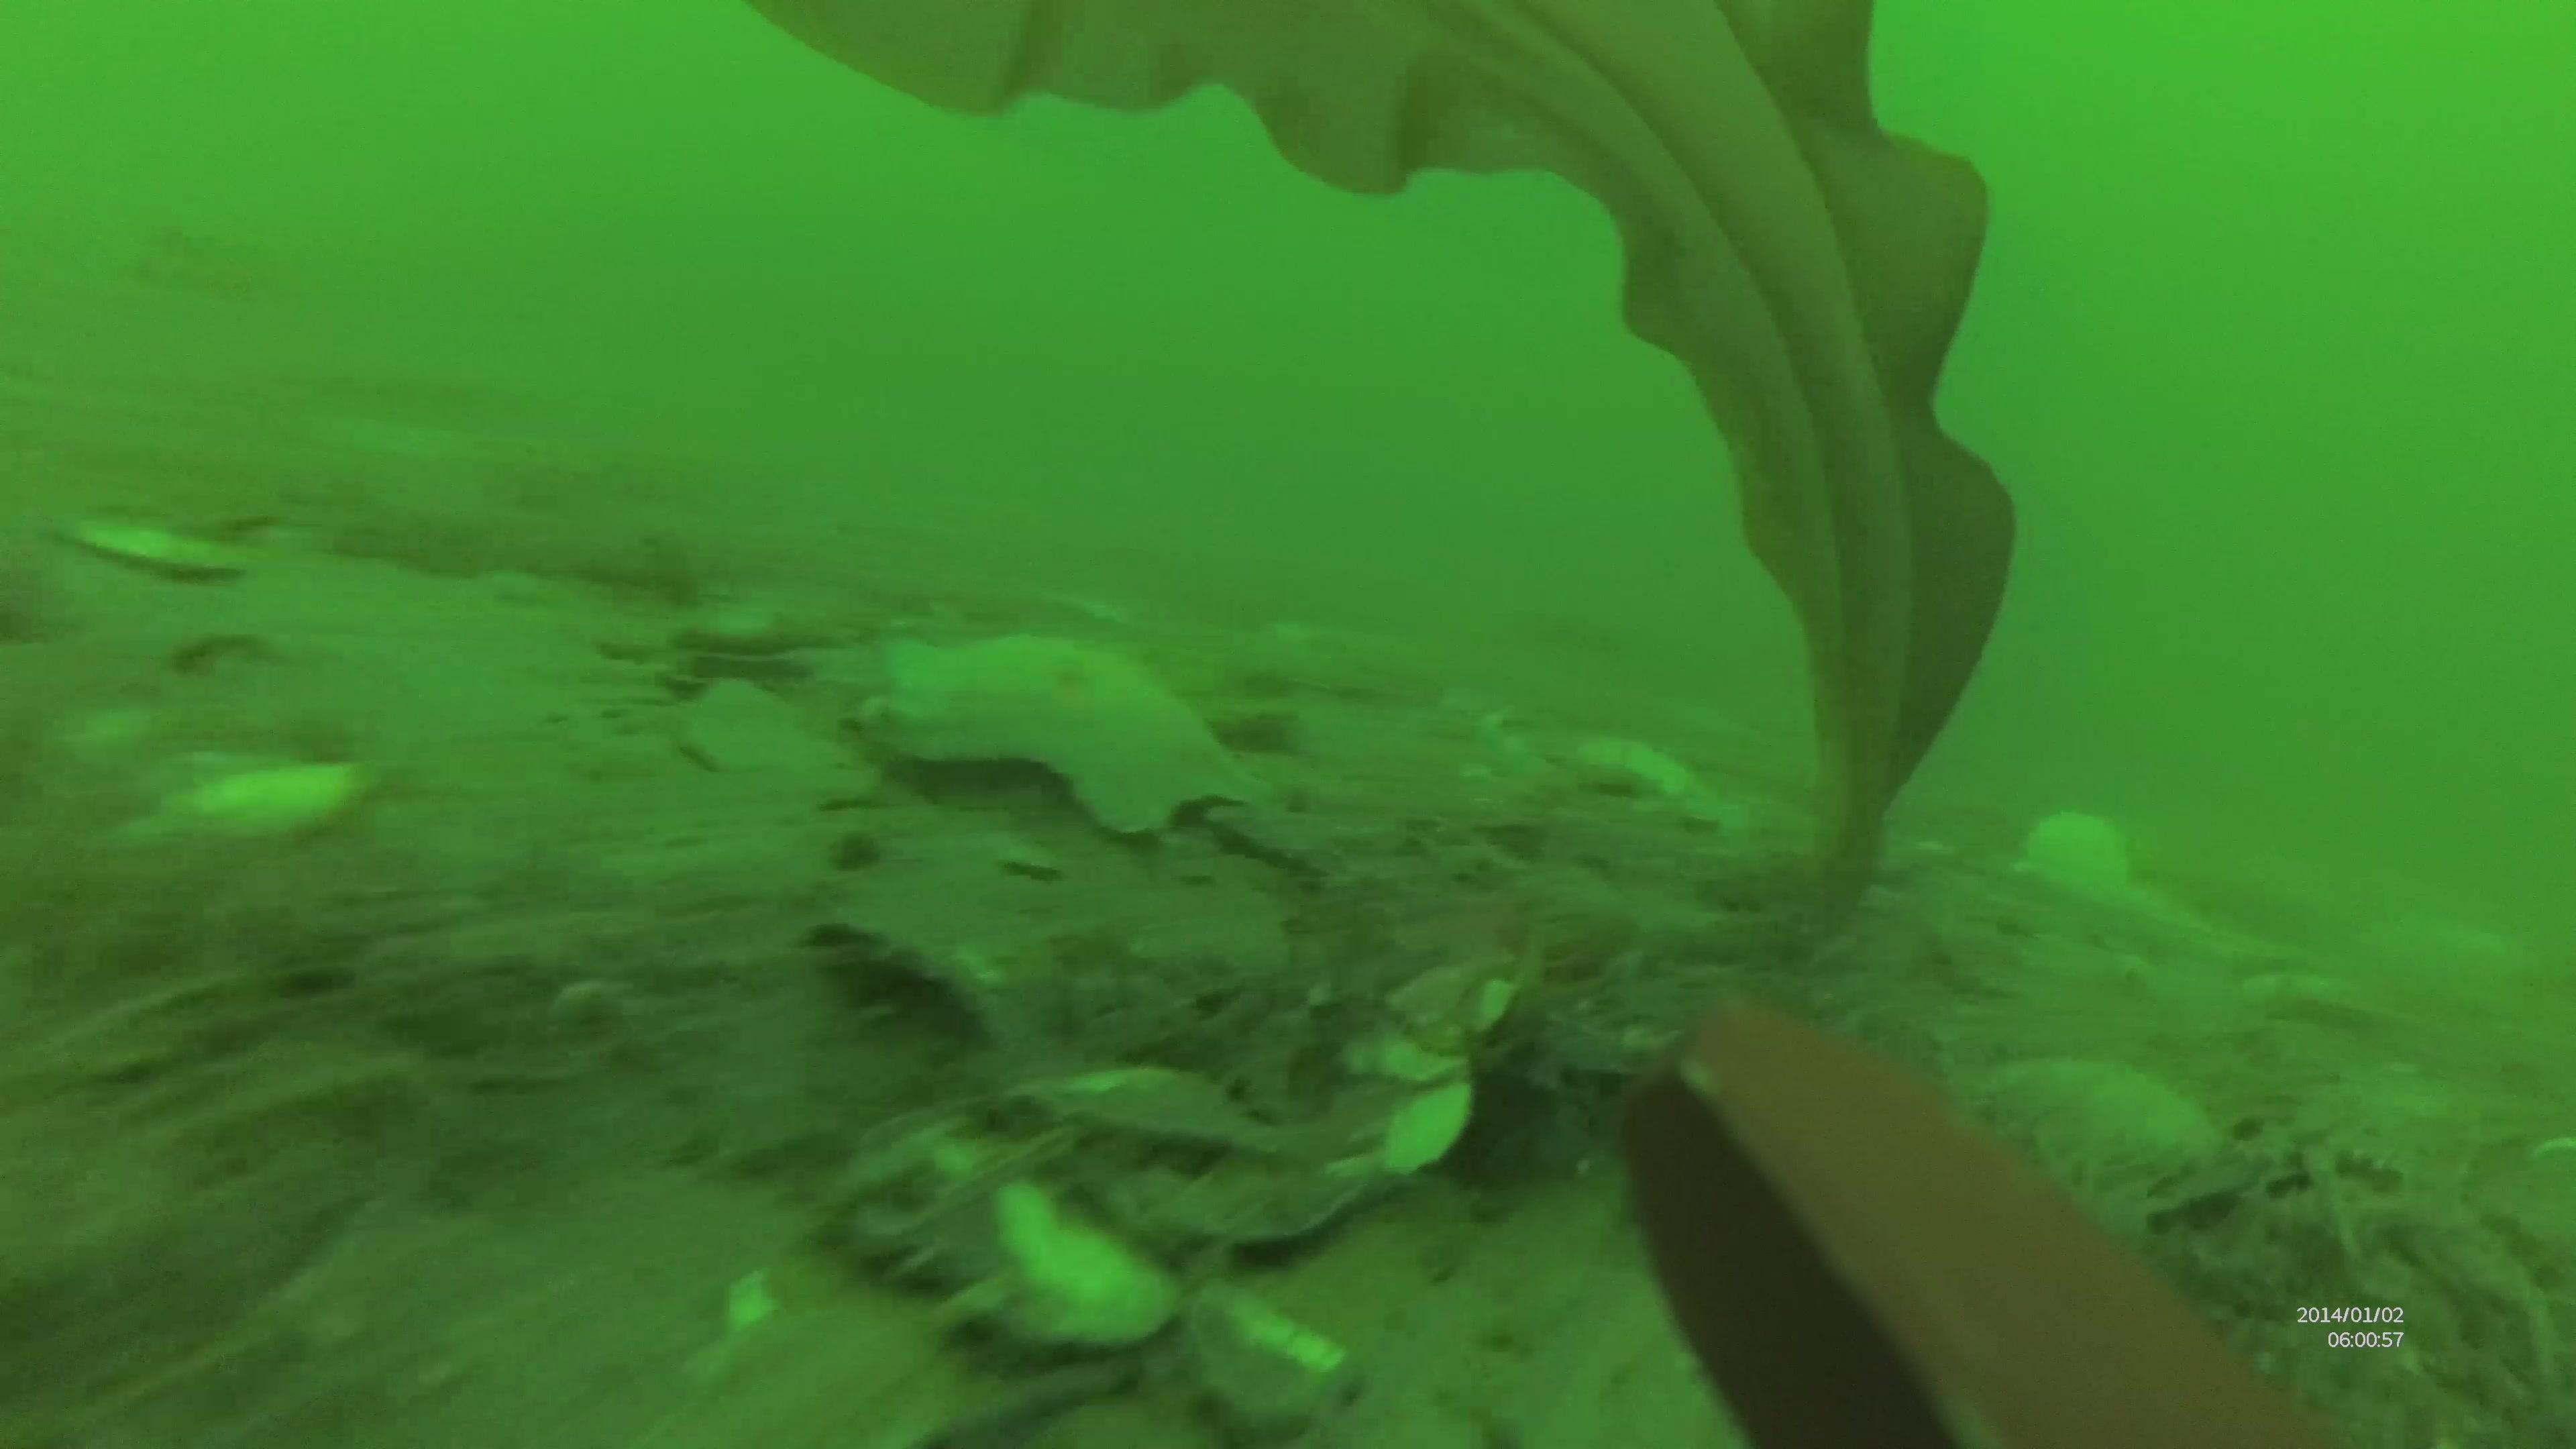starfish: (849, 628, 1231, 837), (1987, 1053, 2213, 1207)
